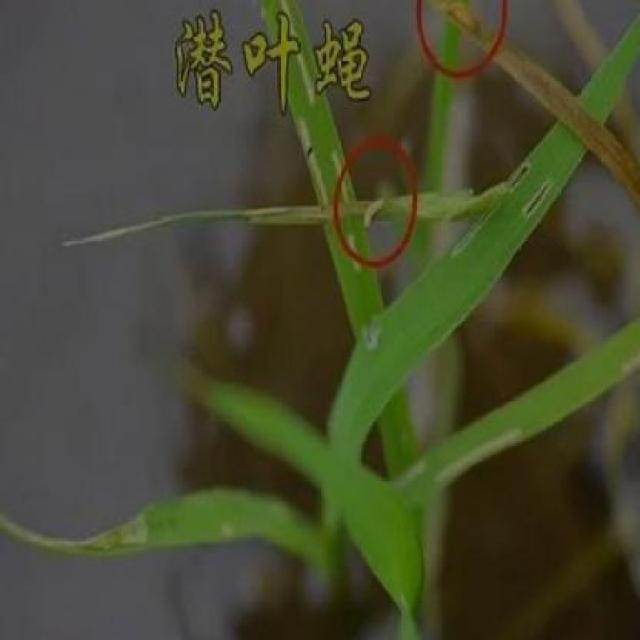whorl-maggot: (361, 185, 385, 237)
